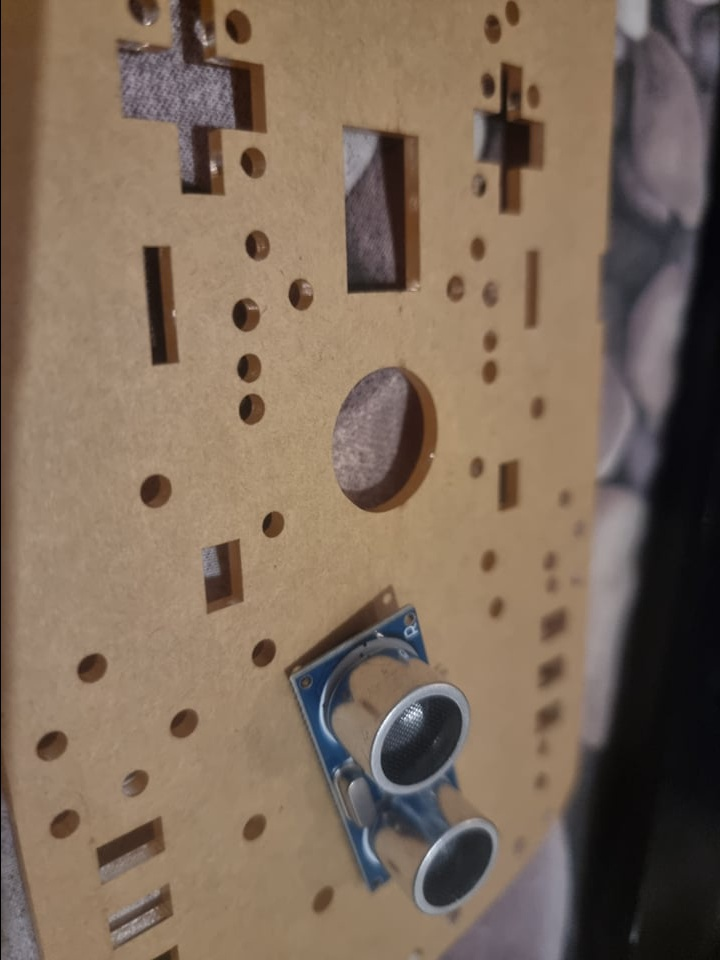SENSOR: (295, 603, 498, 915)
